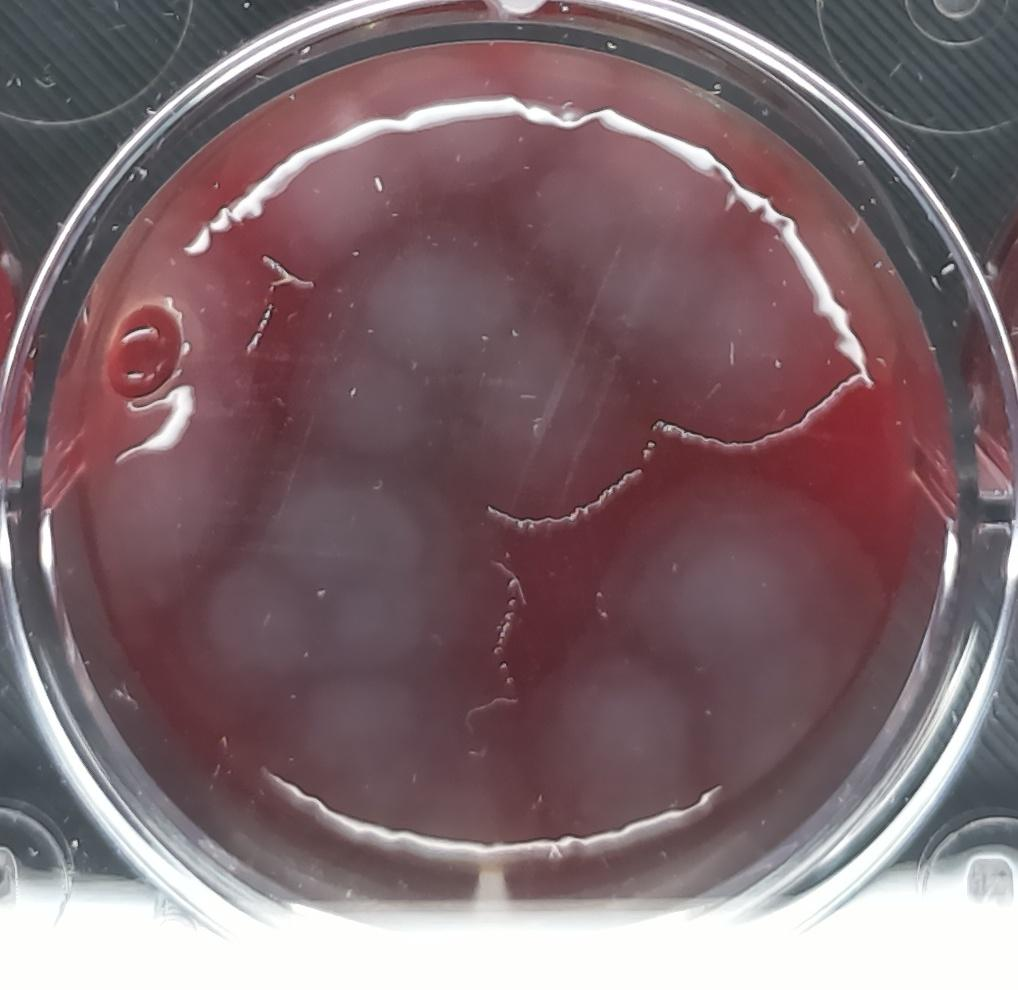valgino: (607, 475, 895, 732), (506, 86, 752, 344), (287, 627, 531, 884), (430, 285, 664, 524), (630, 241, 889, 456), (268, 456, 470, 682), (282, 60, 534, 214), (530, 633, 714, 843), (345, 205, 555, 380), (184, 547, 323, 712), (520, 40, 626, 144)
